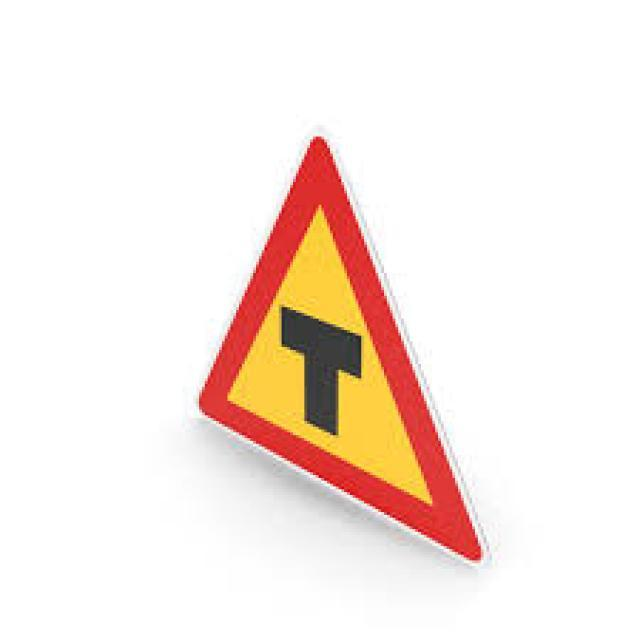t intersection: (195, 126, 483, 568)
